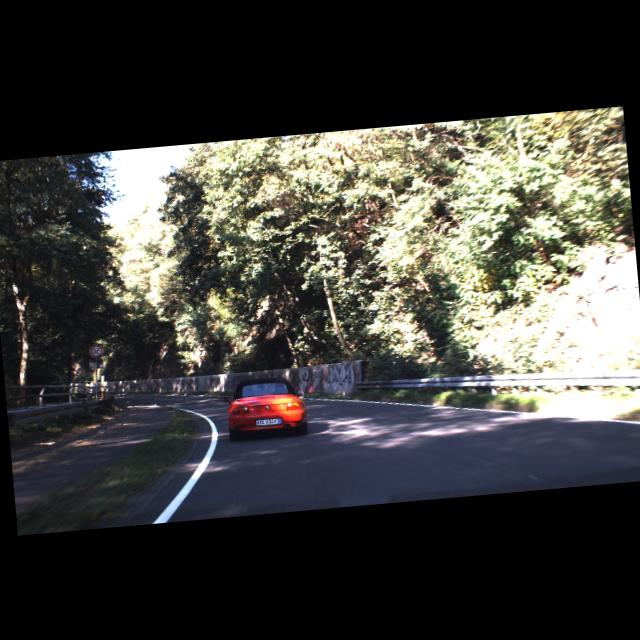prohibitory: (88, 342, 103, 357)
